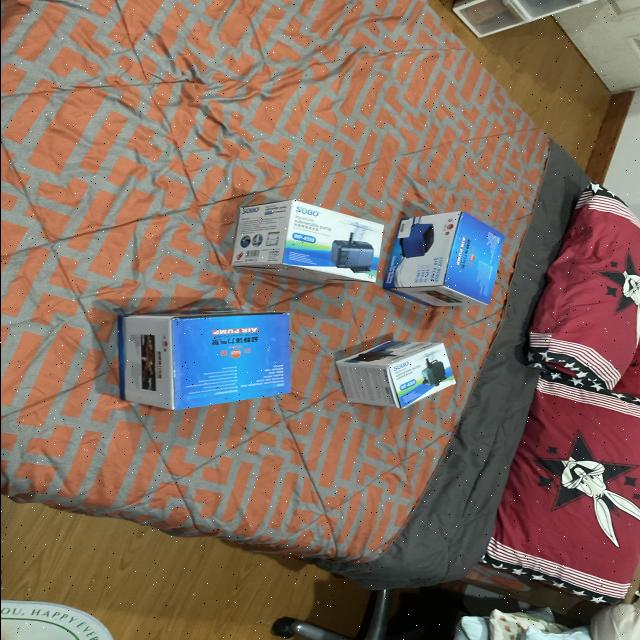SOBO_WP_4200: (221, 194, 393, 304), (331, 334, 478, 426)
YAMANO_LPP_20: (89, 312, 293, 426), (384, 202, 516, 316)
